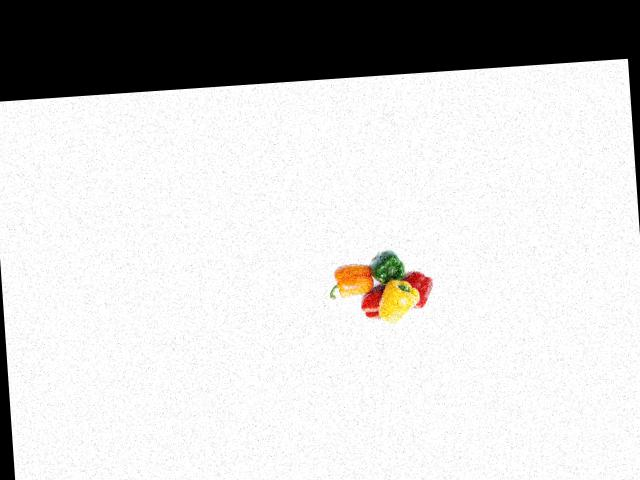bell_pepper: (367, 243, 414, 294)
